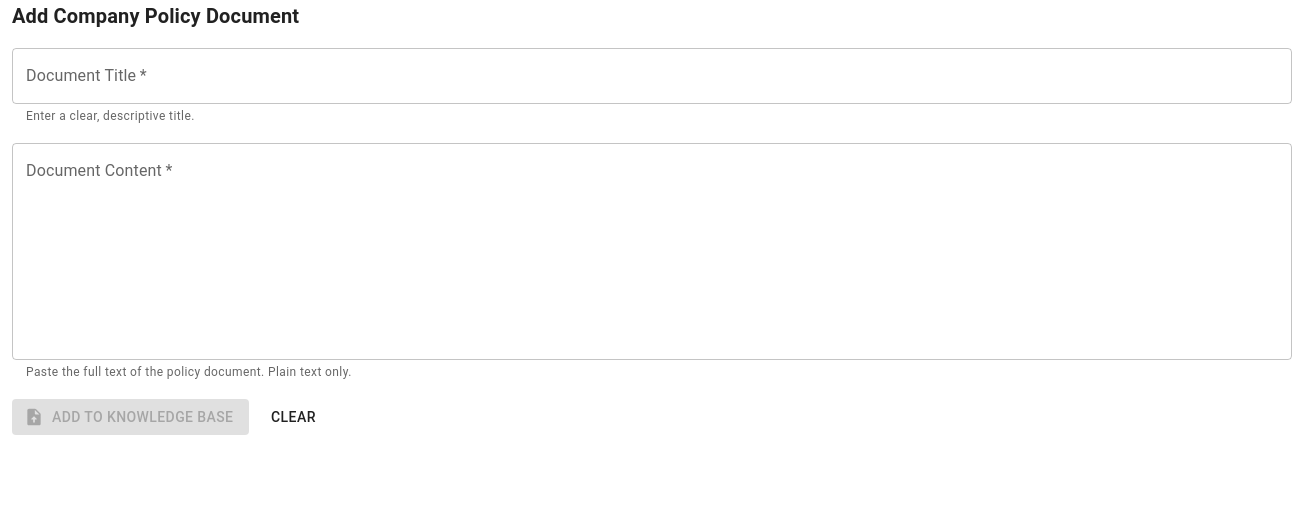
Test: CompanyPolicyForm › Submission › shows network error message when server is unreachable
The width and height of the screenshot is (1304, 519).
Type "Employee Attendance Policy" into the field labelled "Document Title *" at [652, 76], box 12,48 -> 1292,104
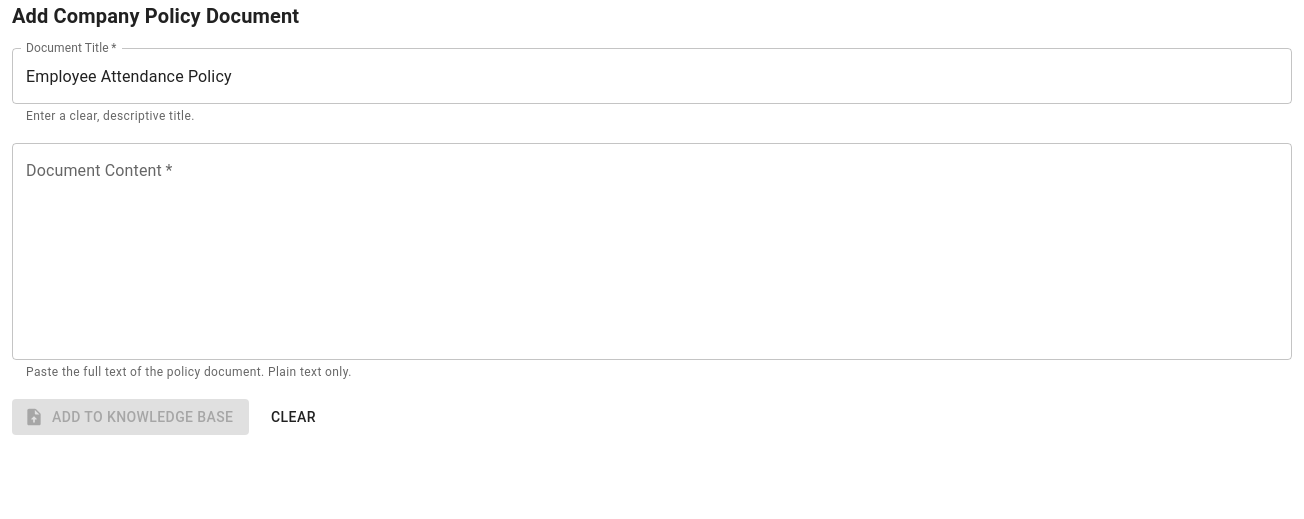
Type "Employees must record attendance daily through the portal." into the text box labelled "Document Content *" at [652, 251], box 26,159 -> 1278,343
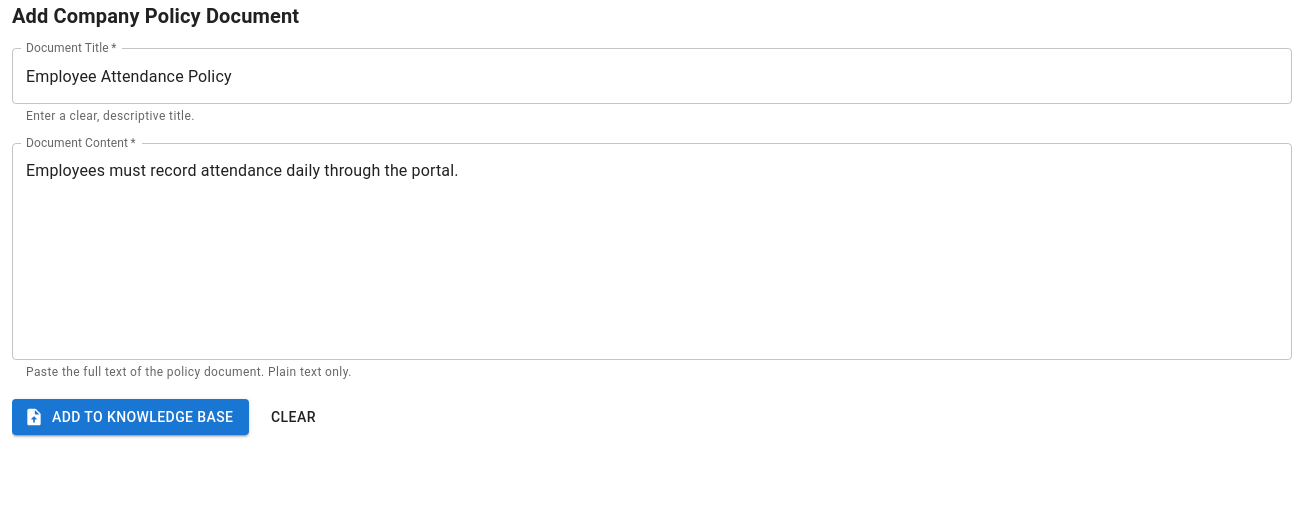
Click the button with aria-label "submit document" at [131, 417], box 12,399 -> 249,435
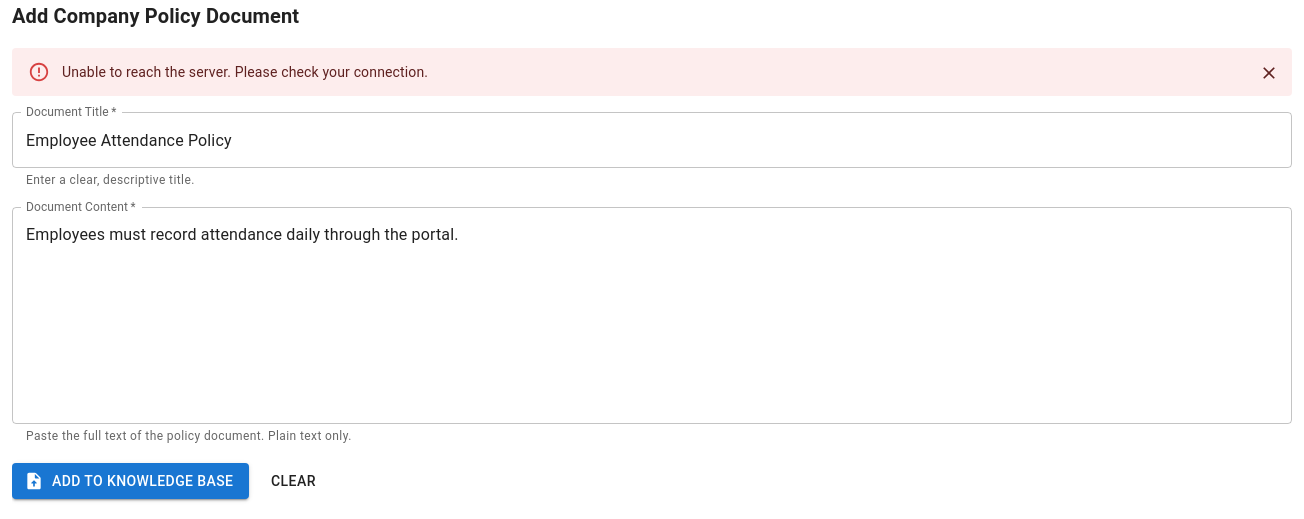
Result: the message named "submission error" shows "Unable to reach the server" at 62,64 -> 428,80
